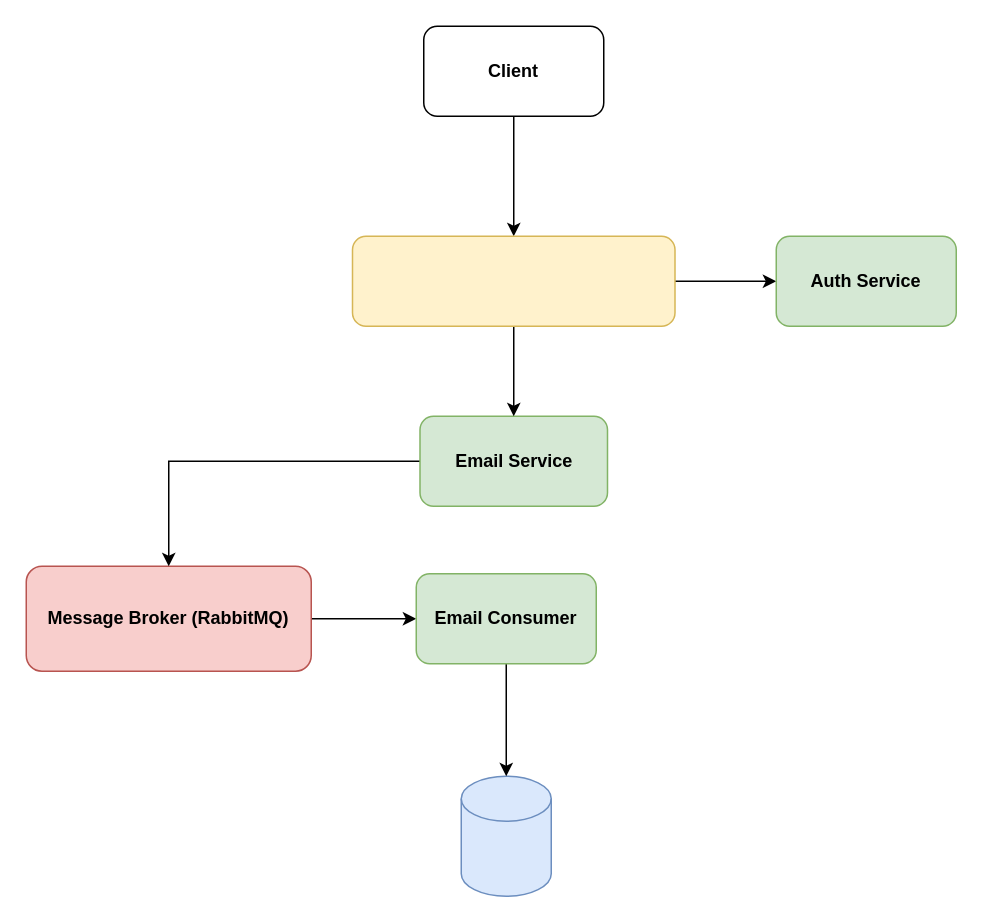
The diagram is 983 pixels wide and 923 high, and some of its shapes have lost their labels. Here are the shapes that lost their labels. From the top down, the centre of each, then its label:
At [513,280]: "API Gateway".
At [505,835]: "DB".
